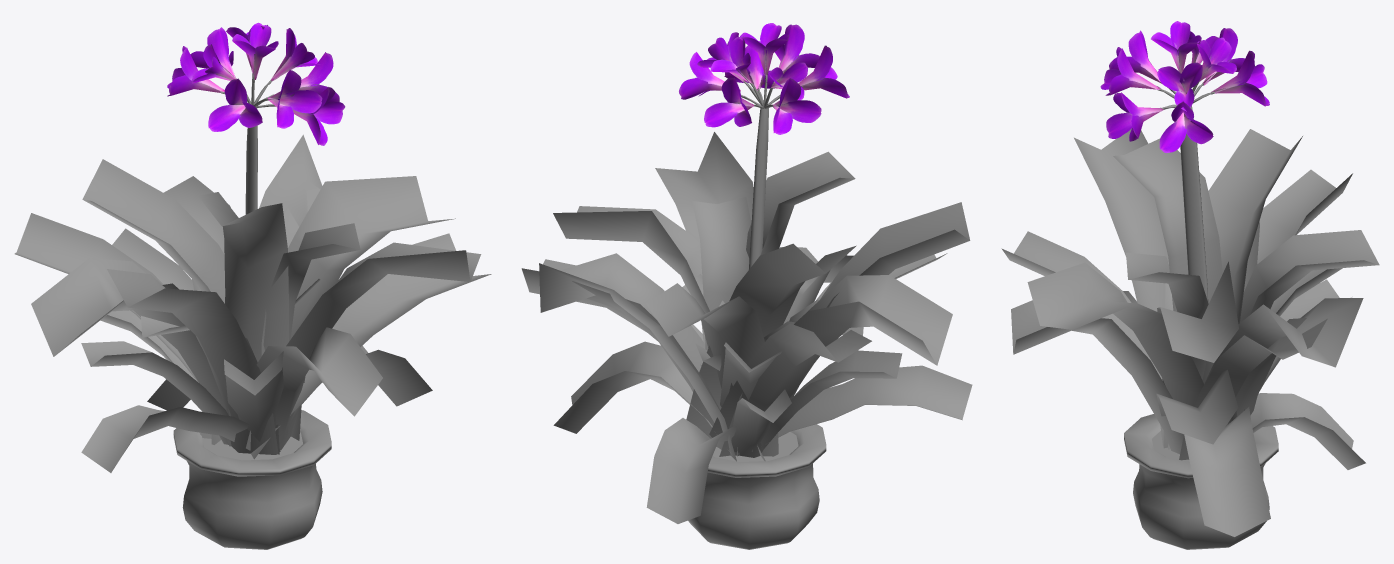
File: Lily_leafgreen_flower_lod0.fbx
The picture shows the model from 3 angles, left to right: view 1: azimuth 30°, elevation 25°; view 2: azimuth 150°, elevation 25°; view 3: azimuth 270°, elevation 25°; orthographic projection. The views are drawn at different scales.
Visible parts, largest first — view 1: Lily_leafgreen_flower_lod0; view 2: Lily_leafgreen_flower_lod0; view 3: Lily_leafgreen_flower_lod0.
Boxes of the visible parts, bbox=[...] form: Lily_leafgreen_flower_lod0: bbox=[14, 22, 491, 549]; Lily_leafgreen_flower_lod0: bbox=[521, 23, 972, 549]; Lily_leafgreen_flower_lod0: bbox=[1001, 21, 1379, 549].
Bounding box in the file's own units: 56 × 64.88 × 44.09.
4 materials, 1 textured.
